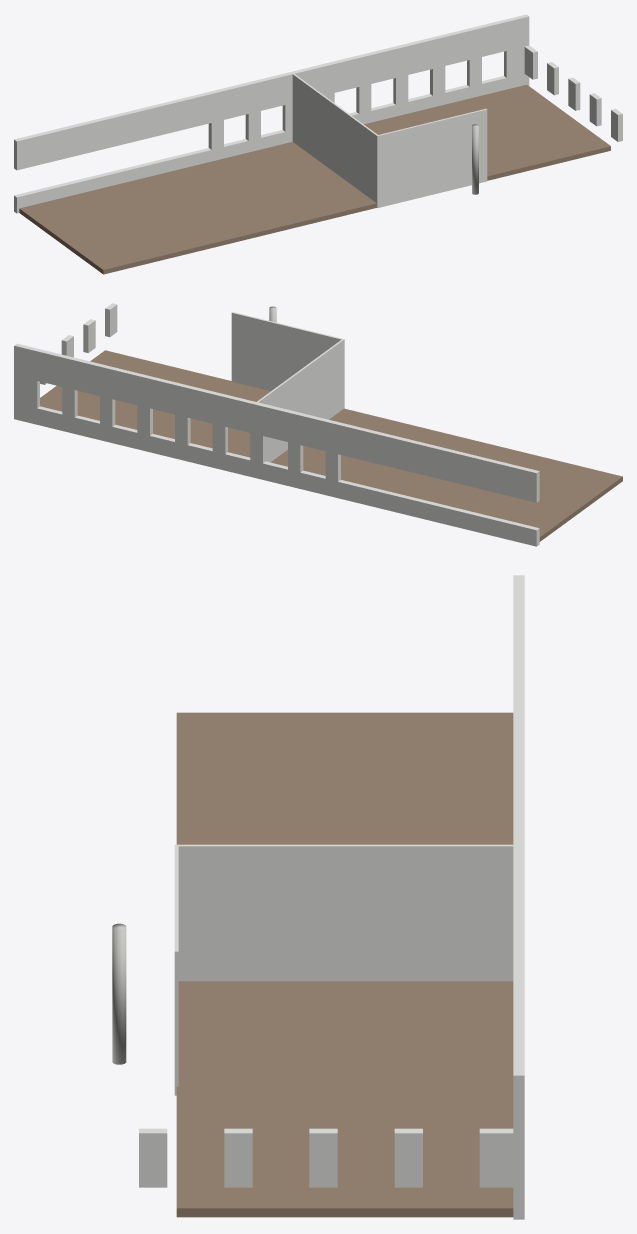
The model's file is SM_Bygg_Helgasetr_P1_O_N.fbx.
3 views of the same model, one above another, from view 1: azimuth 30°, elevation 25°; view 2: azimuth 150°, elevation 25°; view 3: azimuth 270°, elevation 25° (orthographic). The views are drawn at different scales.
Visible parts, largest first — view 1: SM_Bygg_Helgasetr_P1_O_N; view 2: SM_Bygg_Helgasetr_P1_O_N; view 3: SM_Bygg_Helgasetr_P1_O_N.
Part boxes in pixels (<box>): SM_Bygg_Helgasetr_P1_O_N: <box>14,14,622,274</box>; SM_Bygg_Helgasetr_P1_O_N: <box>14,303,622,546</box>; SM_Bygg_Helgasetr_P1_O_N: <box>112,575,524,1219</box>.
Bounding box in the file's own units: 14.53 × 41.7 × 5.6.
